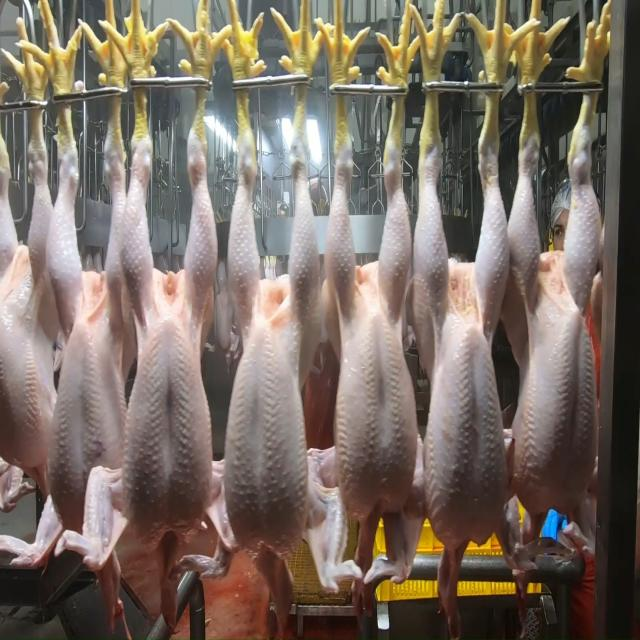chicken: (124, 102, 222, 548), (42, 92, 130, 542), (224, 131, 314, 565), (412, 130, 504, 550), (508, 144, 604, 528), (331, 150, 424, 528), (0, 104, 59, 479)
